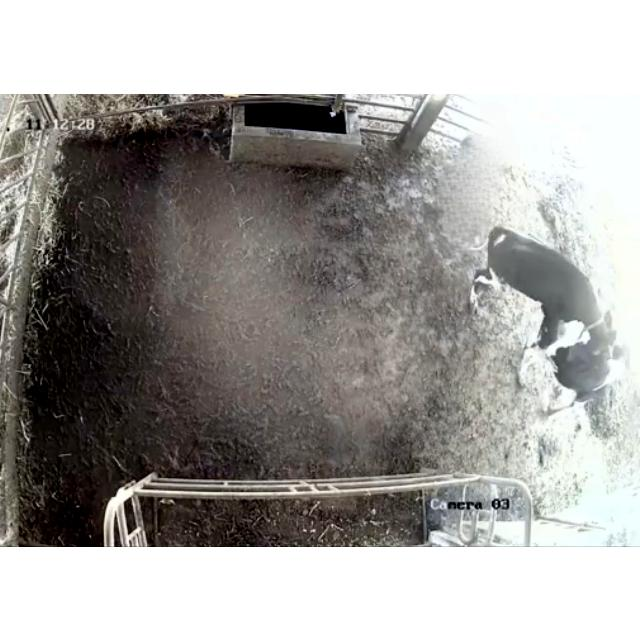ride: (448, 205, 620, 365)
